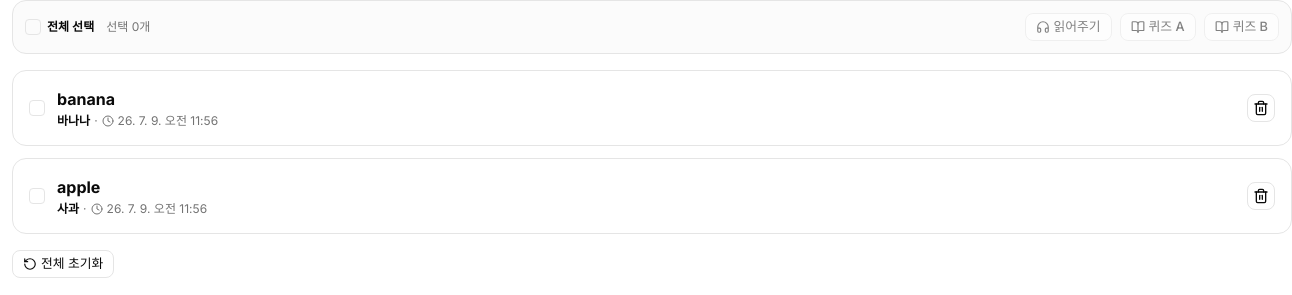
it: WordBook — 삭제·전체 초기화 (Scenario 8, 9) › 삭제 클릭 → 해당 항목이 목록에서 사라진다
This screenshot has width=1292, height=295.
Expected: the text "apple" is shown, [57,177,100,197]
Click the button named "apple 삭제" at (1261, 196), box [1247,182,1275,210]
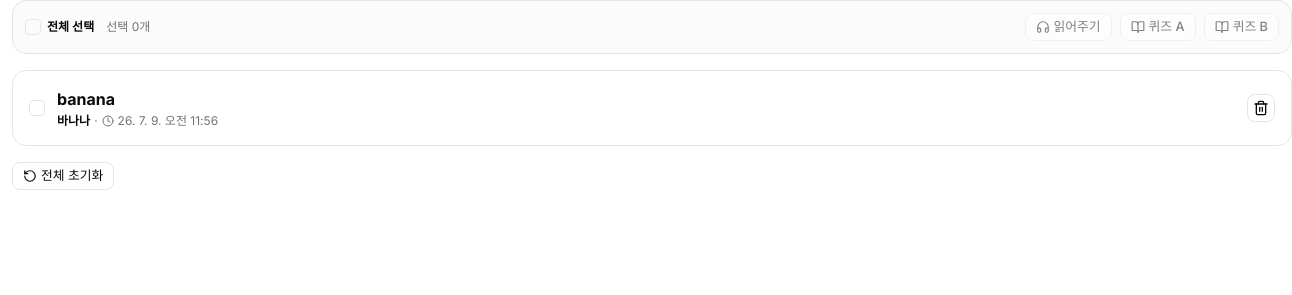
Expected: the text "banana" is shown, [57,89,115,109]
Expected: the text "apple" is gone
